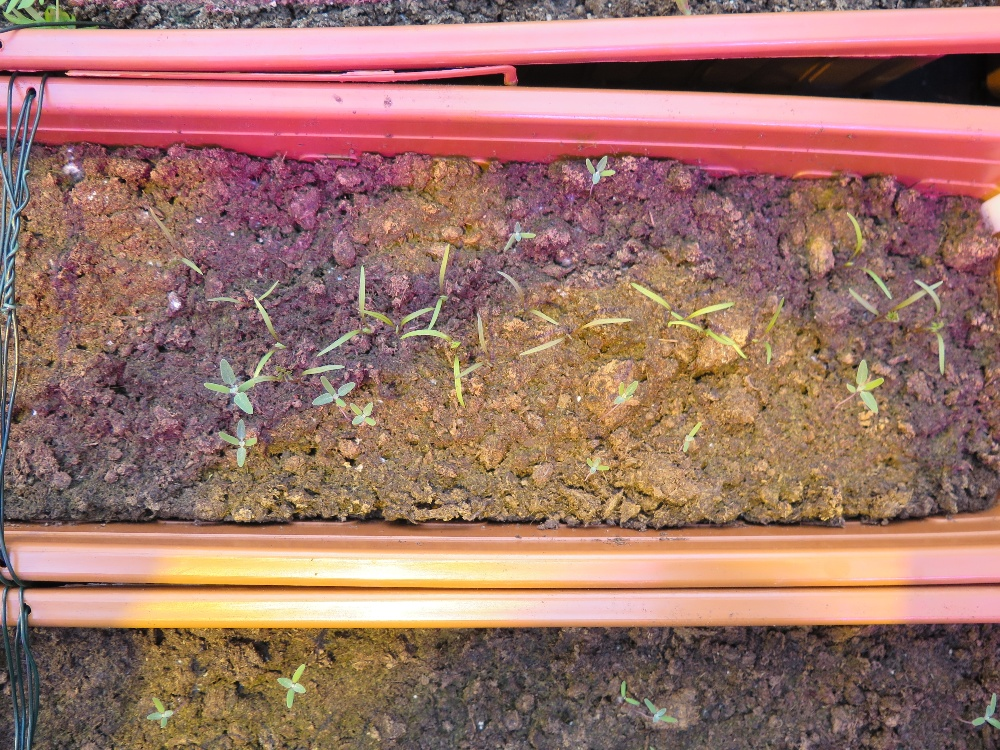crop: (377, 267, 489, 413), (400, 233, 514, 356), (496, 267, 639, 363), (632, 276, 759, 370), (138, 206, 224, 299), (896, 267, 957, 390), (837, 201, 898, 317), (323, 267, 393, 365), (227, 297, 293, 383), (739, 281, 796, 379)
weed: (209, 349, 282, 431), (598, 676, 687, 736), (205, 422, 275, 479), (837, 356, 893, 420), (314, 379, 382, 426), (575, 431, 630, 483), (668, 411, 716, 470), (268, 661, 314, 713), (587, 156, 634, 206), (146, 679, 191, 731), (966, 688, 1000, 747)
